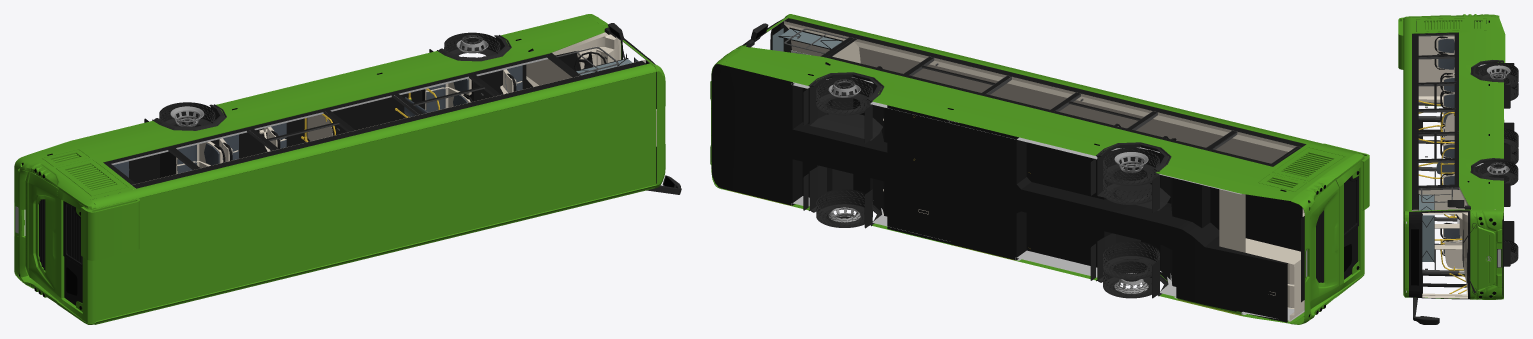
File: liaz.glb
3 views of the same model, side by side, from view 1: azimuth 30°, elevation 25°; view 2: azimuth 150°, elevation 25°; view 3: azimuth 270°, elevation 25° (orthographic). The views are drawn at different scales.
Parts seen in each view (by area): view 1: Body, Windows, Interior, Plane089, Seats, Wheel_003, Wheel_002, Bus, Plane011, Plane100, Plane013; view 2: Plane089, Body, Interior, Windows, Wheel_004, Wheel_003, Wheel_001, Wheel_002, Bus, Plane011, Plane013, Plane099; view 3: Body, Interior, Windows, Seats, Bus, Wheel_003, Wheel_002, Plane098, Doors, Wheel_004, Plane099, Wheel_001 (+2 smaller).
Boxes of the visible parts, bbox=[...] form: Body: bbox=[14, 14, 681, 324]; Windows: bbox=[103, 38, 656, 188]; Interior: bbox=[111, 32, 656, 185]; Plane089: bbox=[129, 51, 580, 183]; Seats: bbox=[113, 65, 522, 177]; Wheel_003: bbox=[159, 102, 215, 126]; Wheel_002: bbox=[444, 32, 500, 57]; Bus: bbox=[52, 48, 656, 190]; Plane011: bbox=[67, 204, 82, 263]; Plane100: bbox=[64, 257, 82, 305]; Plane013: bbox=[39, 199, 45, 270]; Plane089: bbox=[711, 64, 1302, 322]; Body: bbox=[710, 14, 1369, 324]; Interior: bbox=[751, 18, 1336, 321]; Windows: bbox=[742, 17, 1305, 166]; Wheel_004: bbox=[1103, 241, 1159, 298]; Wheel_003: bbox=[1103, 147, 1159, 204]; Wheel_001: bbox=[816, 189, 872, 227]; Wheel_002: bbox=[816, 77, 872, 115]; Bus: bbox=[772, 18, 1332, 187]; Plane011: bbox=[1344, 179, 1355, 233]; Plane013: bbox=[1316, 210, 1323, 282]; Plane099: bbox=[780, 29, 841, 48]; Body: bbox=[1398, 14, 1514, 324]; Interior: bbox=[1412, 33, 1495, 298]; Windows: bbox=[1409, 32, 1470, 299]; Seats: bbox=[1434, 36, 1503, 255]; Bus: bbox=[1411, 20, 1482, 285]; Wheel_003: bbox=[1478, 62, 1518, 100]; Wheel_002: bbox=[1478, 160, 1518, 185]; Plane098: bbox=[1422, 215, 1434, 261]; Doors: bbox=[1418, 119, 1466, 293]; Wheel_004: bbox=[1504, 128, 1518, 164]; Plane099: bbox=[1419, 194, 1434, 210]; Wheel_001: bbox=[1503, 239, 1518, 264].
Size of the model in its own units: 12.9 by 3.2 by 3.1.
